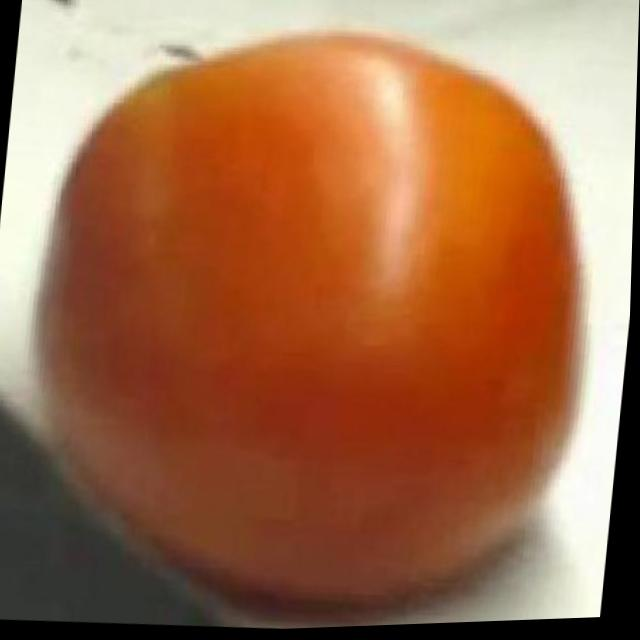tomato: (24, 10, 618, 633)
